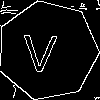V: (22, 25, 58, 72)
